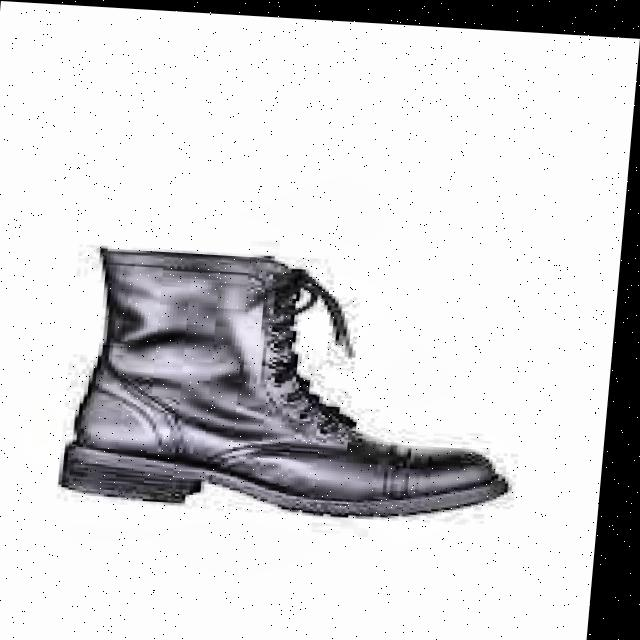shoes: (10, 216, 570, 540)
